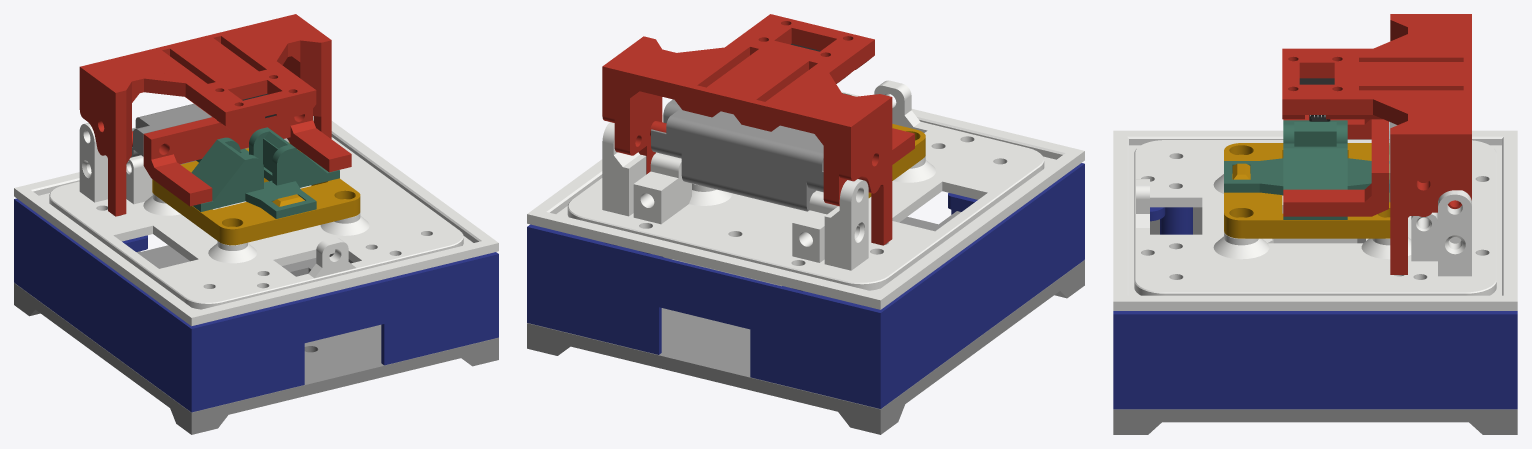
Rendered from devboard_rotational v2.fbx.
The picture shows the model from 3 angles, left to right: view 1: azimuth 30°, elevation 25°; view 2: azimuth 150°, elevation 25°; view 3: azimuth 270°, elevation 25°; orthographic projection. The views are drawn at different scales.
Parts seen in each view (by area): view 1: Body57, baseplate_top (7), top_sensor_mount (2), Body59, Body79, Body77, Body72, Body76; view 2: Body57, baseplate_top (7), top_sensor_mount (2), Body59, Body76, Body72, Body77; view 3: baseplate_top (7), Body57, top_sensor_mount (2), Body79, Body72, Body59, Body77, Body66.
Boxes of the visible parts, bbox=[...] form: Body57: bbox=[14, 198, 498, 412]; baseplate_top (7): bbox=[14, 116, 498, 326]; top_sensor_mount (2): bbox=[79, 14, 331, 216]; Body59: bbox=[14, 245, 498, 434]; Body79: bbox=[191, 127, 339, 218]; Body77: bbox=[143, 109, 351, 206]; Body72: bbox=[152, 142, 360, 245]; Body76: bbox=[130, 103, 248, 164]; Body57: bbox=[527, 163, 1084, 408]; baseplate_top (7): bbox=[527, 80, 1084, 309]; top_sensor_mount (2): bbox=[602, 14, 892, 245]; Body59: bbox=[527, 217, 1084, 434]; Body76: bbox=[651, 99, 823, 211]; Body72: bbox=[868, 124, 925, 197]; Body77: bbox=[892, 128, 914, 164]; baseplate_top (7): bbox=[1113, 130, 1517, 310]; Body57: bbox=[1113, 207, 1517, 409]; top_sensor_mount (2): bbox=[1282, 14, 1471, 274]; Body79: bbox=[1224, 120, 1389, 219]; Body72: bbox=[1224, 143, 1390, 238]; Body59: bbox=[1113, 409, 1517, 434]; Body77: bbox=[1283, 115, 1388, 216]; Body66: bbox=[1150, 207, 1365, 243].
Bounding box in the file's own units: 116 × 87.2 × 116.
